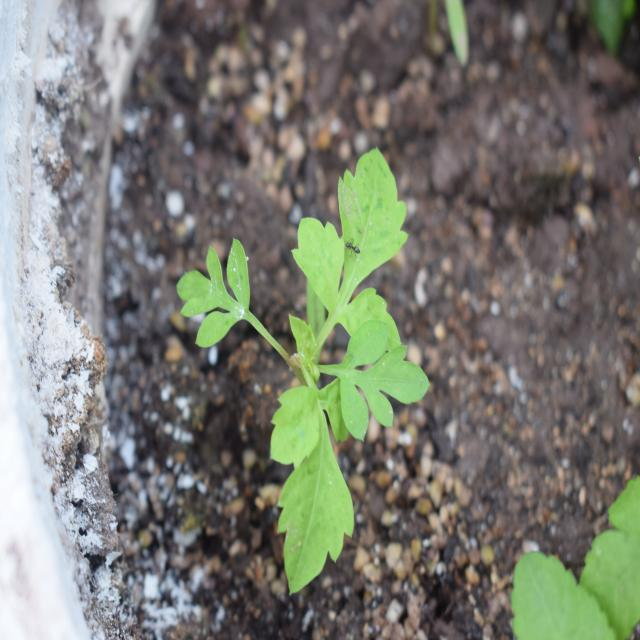Bidens pilosa: (171, 139, 453, 575)
